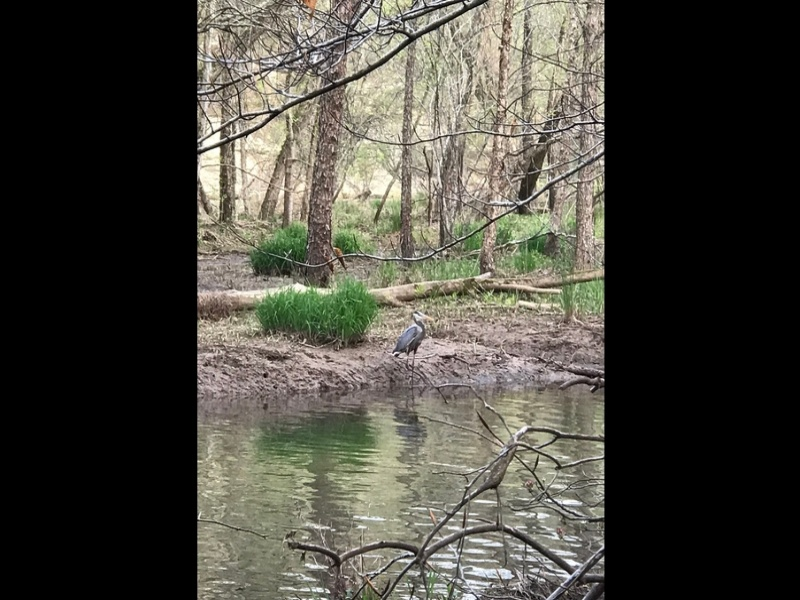heron: (392, 305, 427, 387)
